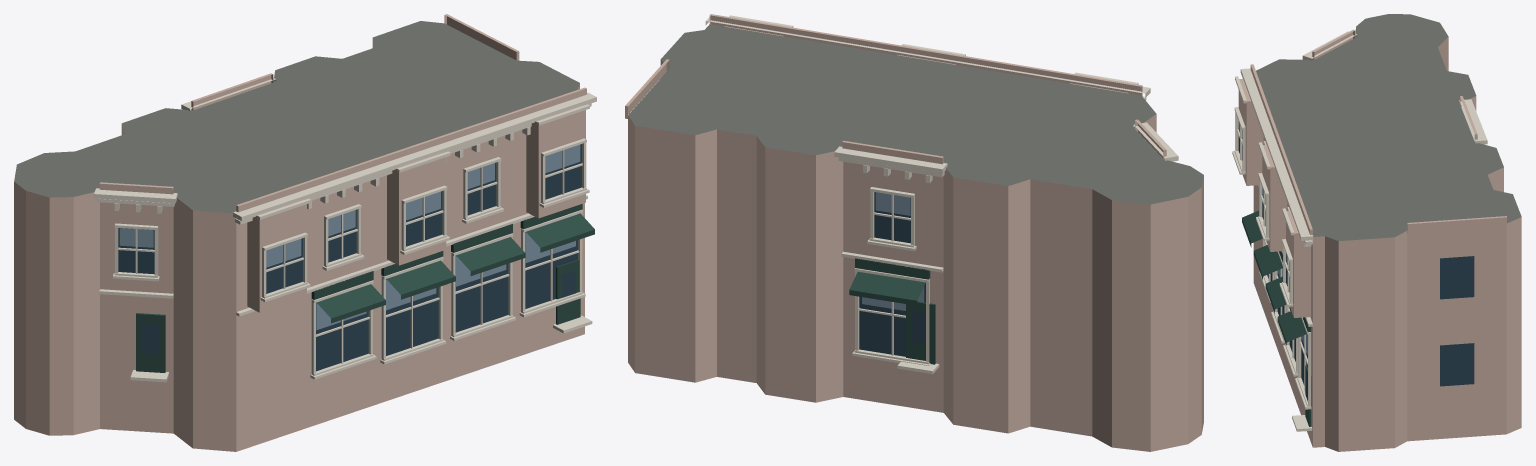
3 views of the same model, side by side, from view 1: azimuth 30°, elevation 25°; view 2: azimuth 150°, elevation 25°; view 3: azimuth 270°, elevation 25° (orthographic). The views are drawn at different scales.
Parts seen in each view (by area): view 1: Footprint 0 / surface 2, Footprint 0 / surface 1, Cornices and window frames, Facade bay volumes, Inset glazing, Storefronts and doors, Sky reflection panels; view 2: Footprint 0 / surface 2, Footprint 0 / surface 1, Cornices and window frames, Facade bay volumes, Storefronts and doors, Inset glazing, Sky reflection panels; view 3: Footprint 0 / surface 2, Footprint 0 / surface 1, Facade bay volumes, Cornices and window frames, Inset glazing, Storefronts and doors.
Boxes of the visible parts, x1,y1,x2,y2 form: Footprint 0 / surface 2: (14,39,584,451); Footprint 0 / surface 1: (14,21,579,213); Cornices and window frames: (94,78,596,382); Facade bay volumes: (99,14,586,312); Inset glazing: (118,144,581,371); Storefronts and doors: (136,204,594,372); Sky reflection panels: (119,144,580,330); Footprint 0 / surface 2: (628,59,1203,451); Footprint 0 / surface 1: (628,24,1203,204); Cornices and window frames: (705,15,1178,374); Facade bay volumes: (625,14,1166,164); Storefronts and doors: (849,258,935,364); Inset glazing: (859,192,925,356); Sky reflection panels: (862,192,924,310); Footprint 0 / surface 2: (1253,37,1521,451); Footprint 0 / surface 1: (1256,14,1521,240); Facade bay volumes: (1238,29,1506,317); Cornices and window frames: (1232,31,1487,431); Inset glazing: (1238,128,1474,401); Storefronts and doors: (1242,210,1311,426).
Bounding box in the file's own units: 22.55 × 10.11 × 12.15.
